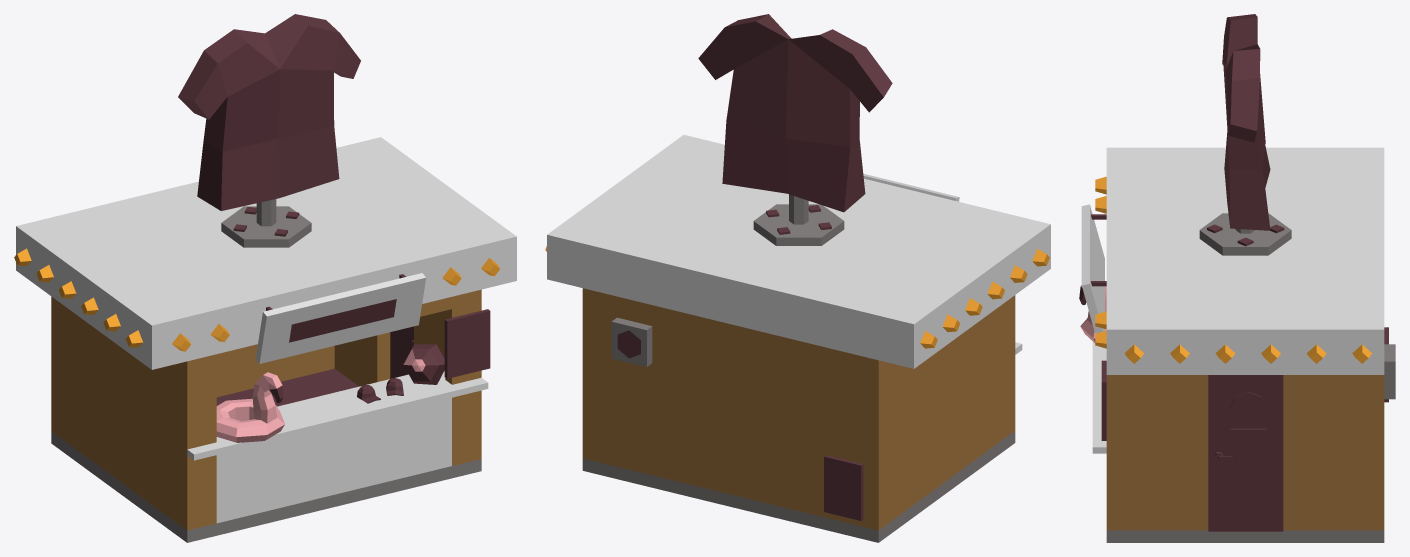
Rendered from souvenir-stall.fbx.
3 renders of one model, left to right at view 1: azimuth 30°, elevation 25°; view 2: azimuth 150°, elevation 25°; view 3: azimuth 270°, elevation 25°, orthographic. The views are drawn at different scales.
Visible parts, largest first — view 1: souvenir-stall; view 2: souvenir-stall; view 3: souvenir-stall.
Boxes of the visible parts, left/top/right/bottom form: souvenir-stall: left=14, top=14, right=516, bottom=542; souvenir-stall: left=545, top=14, right=1050, bottom=542; souvenir-stall: left=1079, top=14, right=1395, bottom=542.
Bounding box in the file's own units: 4.9 × 5.24 × 3.42.
